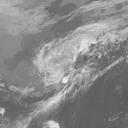cyclone: (31, 35, 87, 90)
